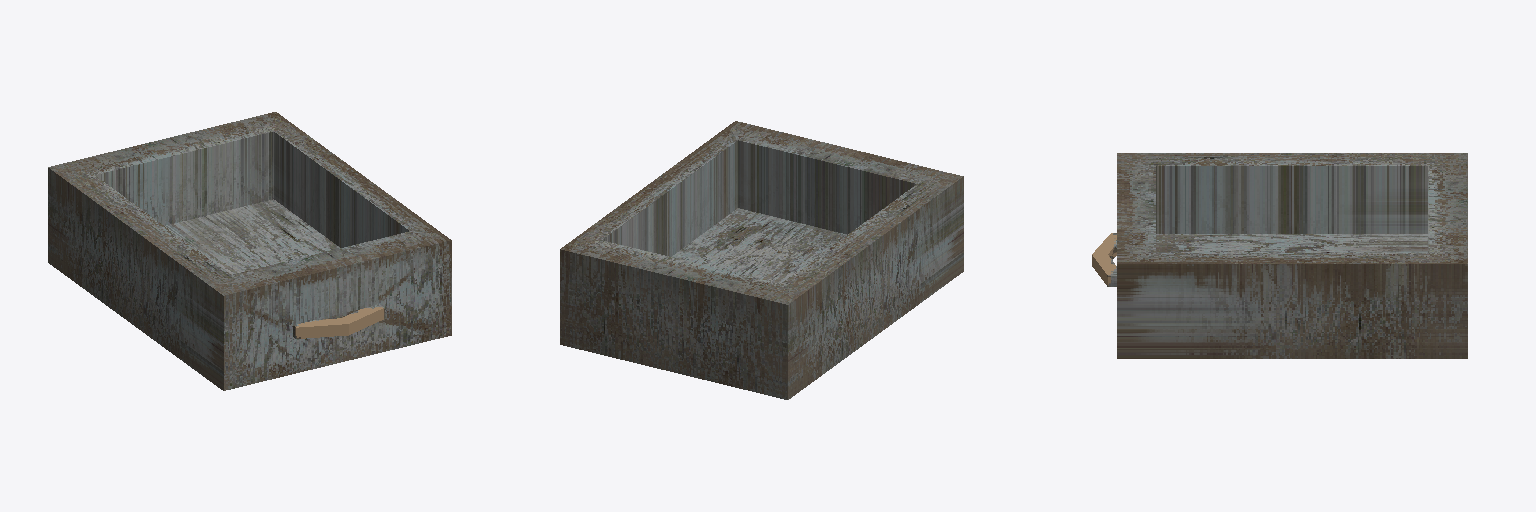
3 views of the same model, side by side, from view 1: azimuth 30°, elevation 25°; view 2: azimuth 150°, elevation 25°; view 3: azimuth 270°, elevation 25° (orthographic).
Visible parts, largest first — view 1: Box002; view 2: Box002; view 3: Box002.
Part boxes in pixels (left/top/right/bottom): Box002: left=48, top=112, right=451, bottom=390; Box002: left=560, top=121, right=963, bottom=399; Box002: left=1092, top=153, right=1467, bottom=358.
Size of the model in its own units: 15 by 6 by 21.42.
Materials: 1 (1 with a texture image).